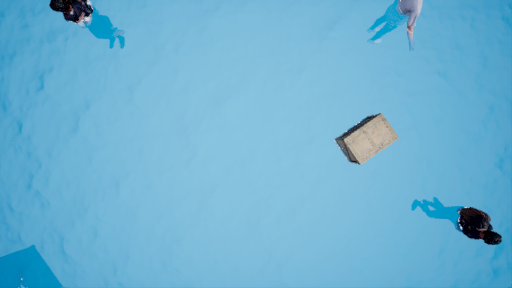person: (408, 200, 509, 256), (366, 1, 426, 60)
